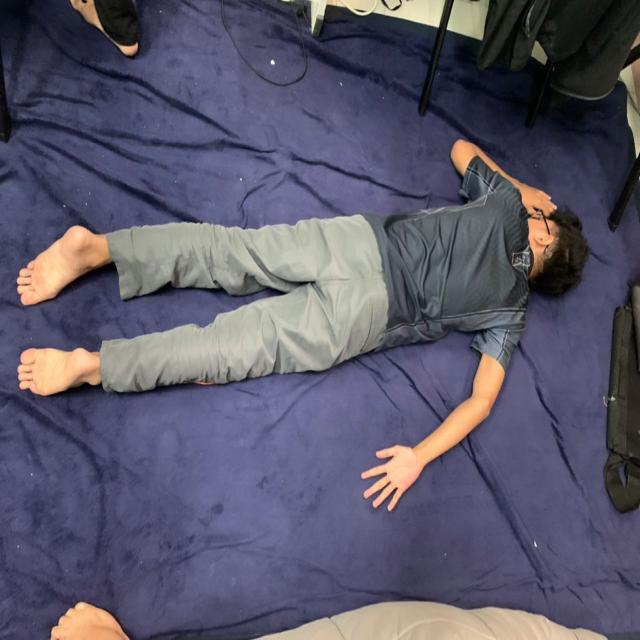Fall-Detected: (9, 141, 586, 511)
